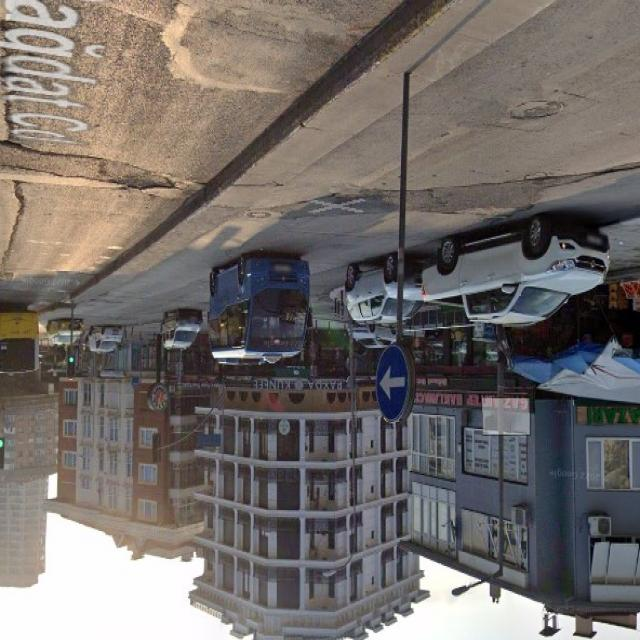Turn Left: (377, 344, 410, 427)
